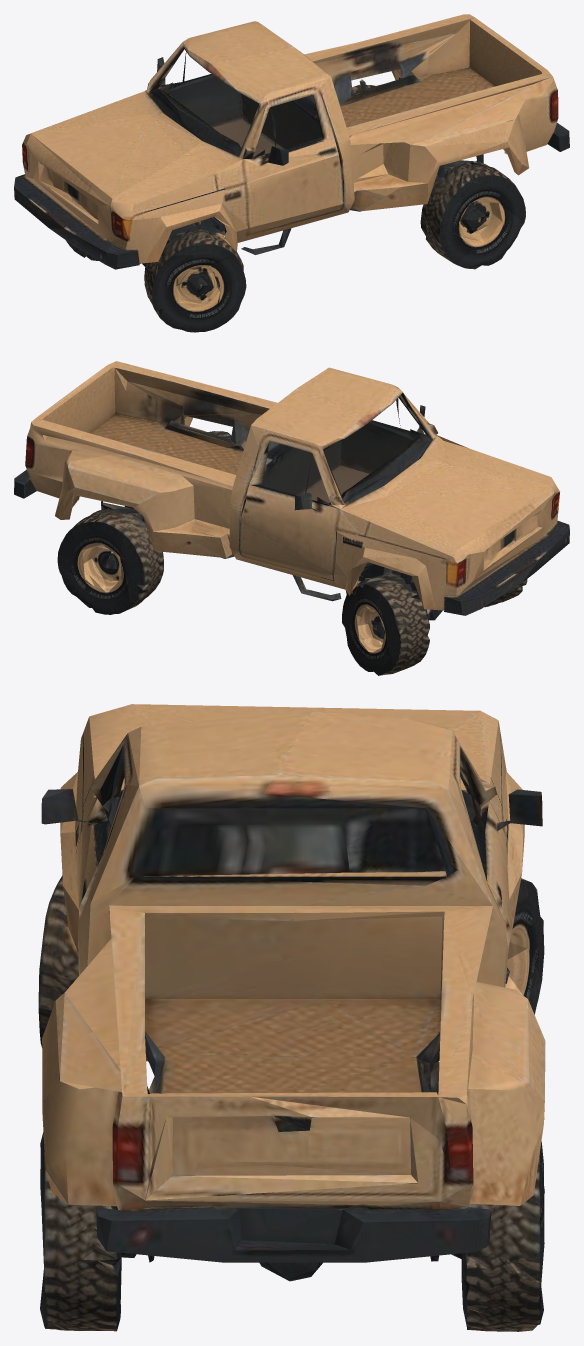
Rendered from pickup.glb.
3 views of the same model, one above another, from view 1: azimuth 30°, elevation 25°; view 2: azimuth 150°, elevation 25°; view 3: azimuth 270°, elevation 25° (orthographic). The views are drawn at different scales.
Bounding box in the file's own units: 1.9 × 0.814 × 0.8898.
Materials: 1 (1 with a texture image).
